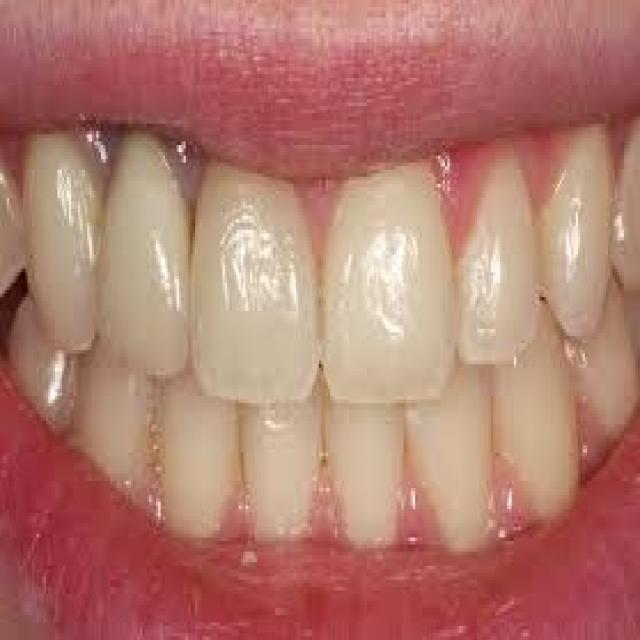tooth: (195, 159, 321, 410), (324, 173, 456, 410), (101, 138, 200, 385), (23, 138, 112, 357), (456, 156, 542, 371), (491, 326, 587, 516), (406, 368, 502, 544), (546, 134, 617, 343), (321, 385, 411, 548), (71, 332, 158, 492), (158, 368, 241, 530), (241, 389, 323, 541)
